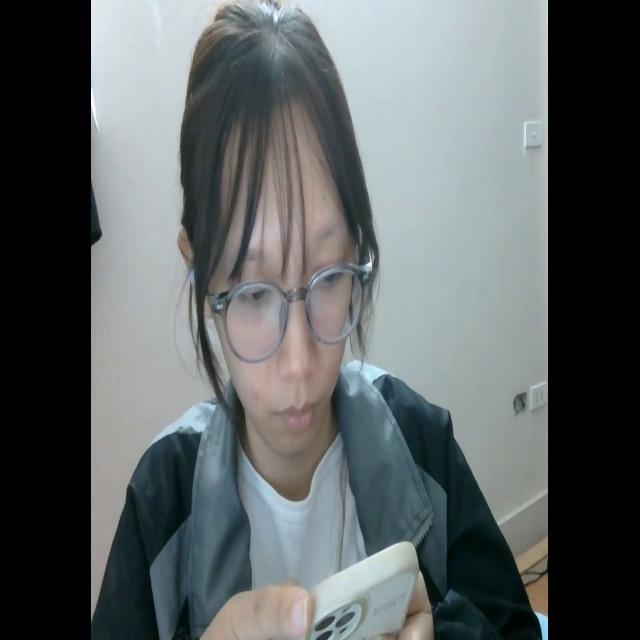phone: (291, 534, 419, 640)
student: (97, 10, 540, 640)
